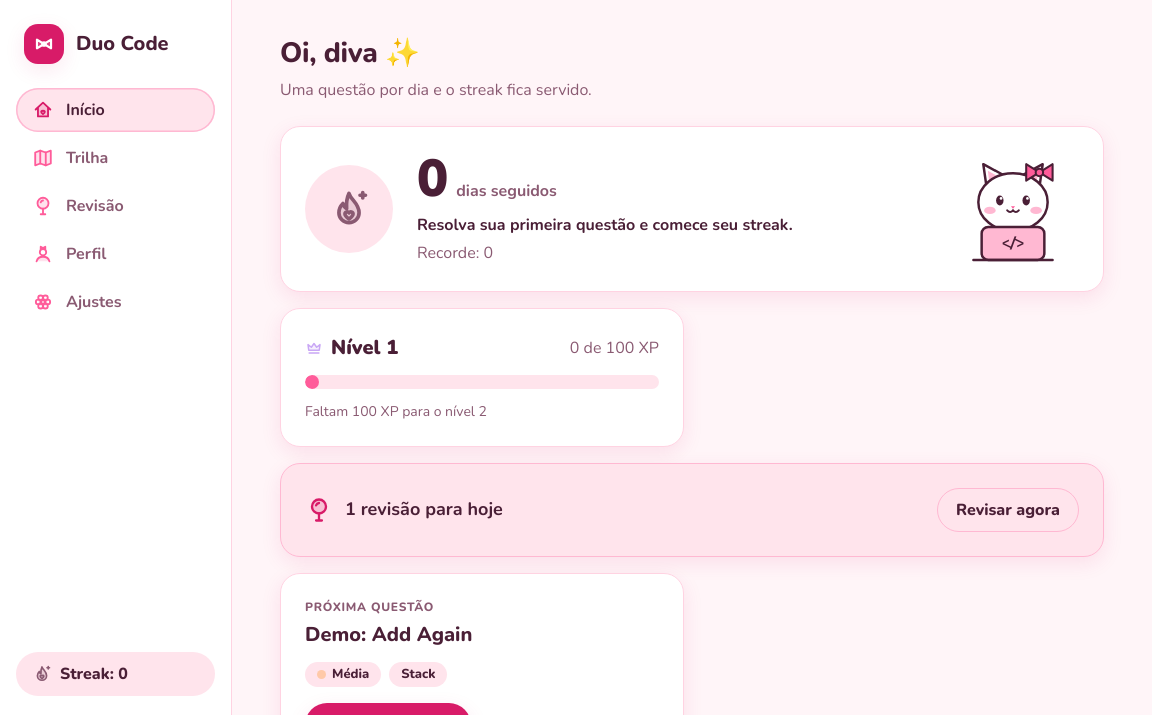
fila de revisão (005 RF-2, RF-3) › lista as vencidas com o atraso, e a Home mostra o contador
Expected: the text "1 revisão para hoje" is shown, [345,496,503,523]
Click the link "Revisar agora" at (1008, 510), box [937,488,1079,532]
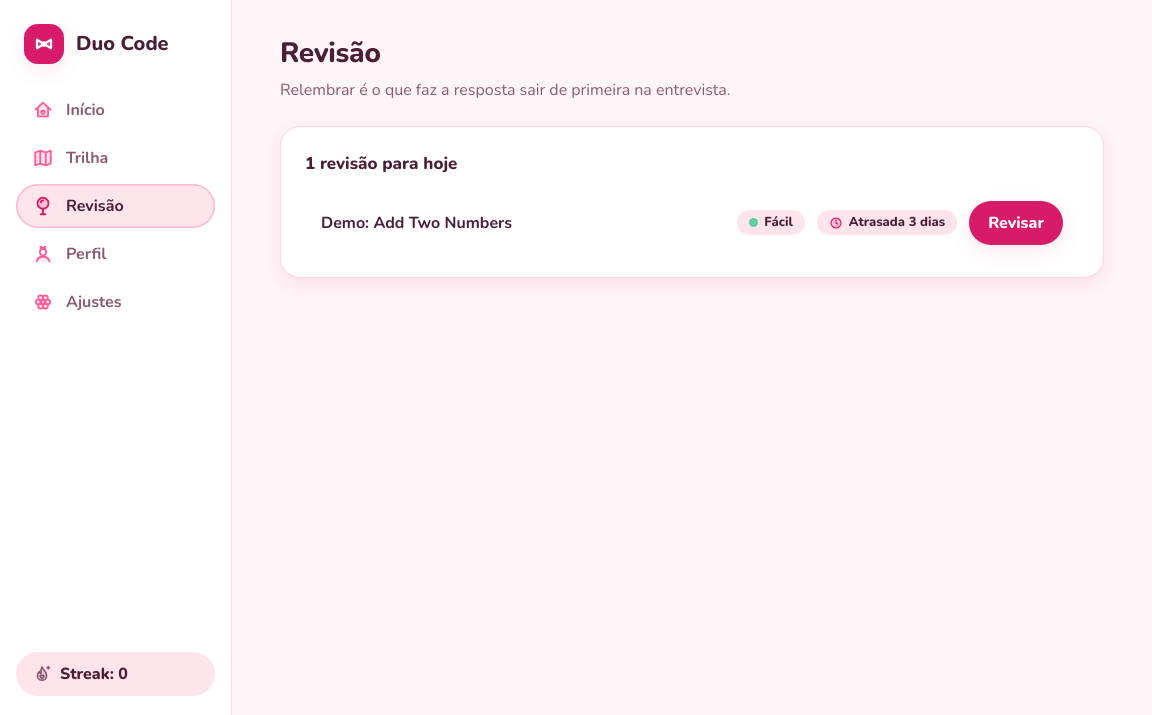
Result: the text "Demo: Add Two Numbers" is shown at [321,212,512,234]
